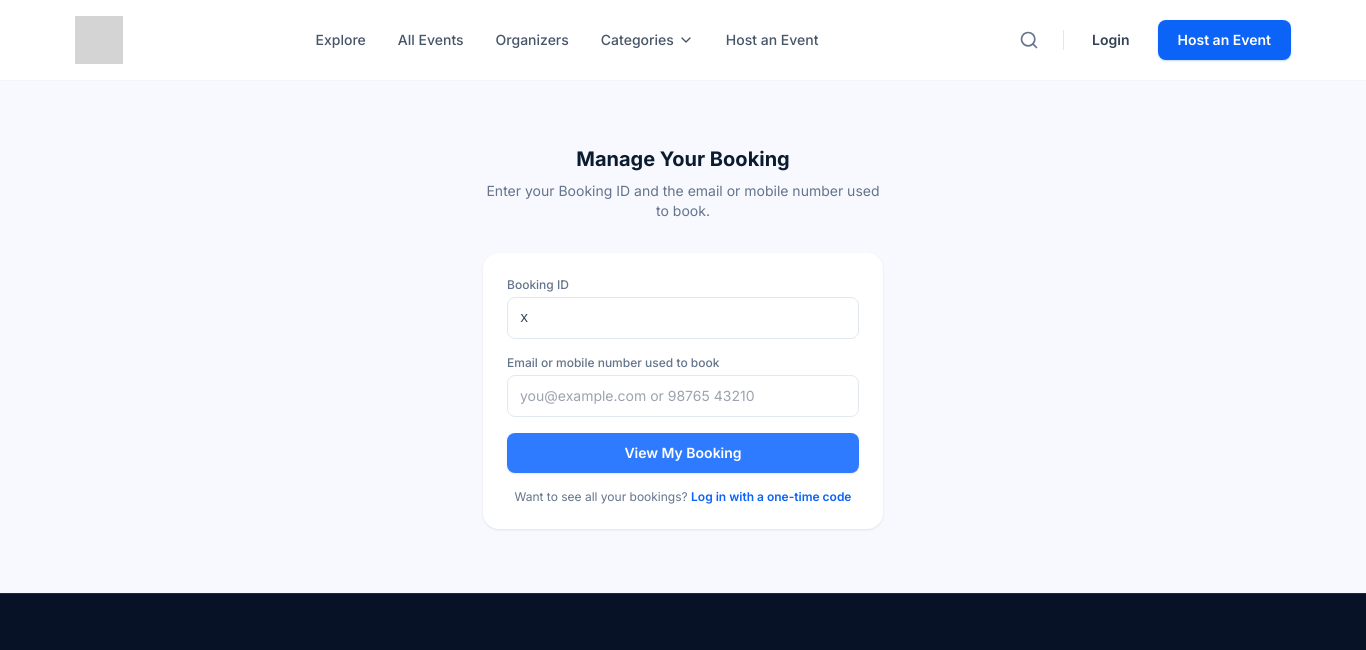
Test: post-event photos & videos link › shows nothing when the organizer has not shared a link
The width and height of the screenshot is (1366, 650).
In the field with placeholder "INV-BKG-2026-AB12CD": (683, 318) x1=507 y1=297 x2=859 y2=339, type "INV-BKG-2026-GALLERY1"
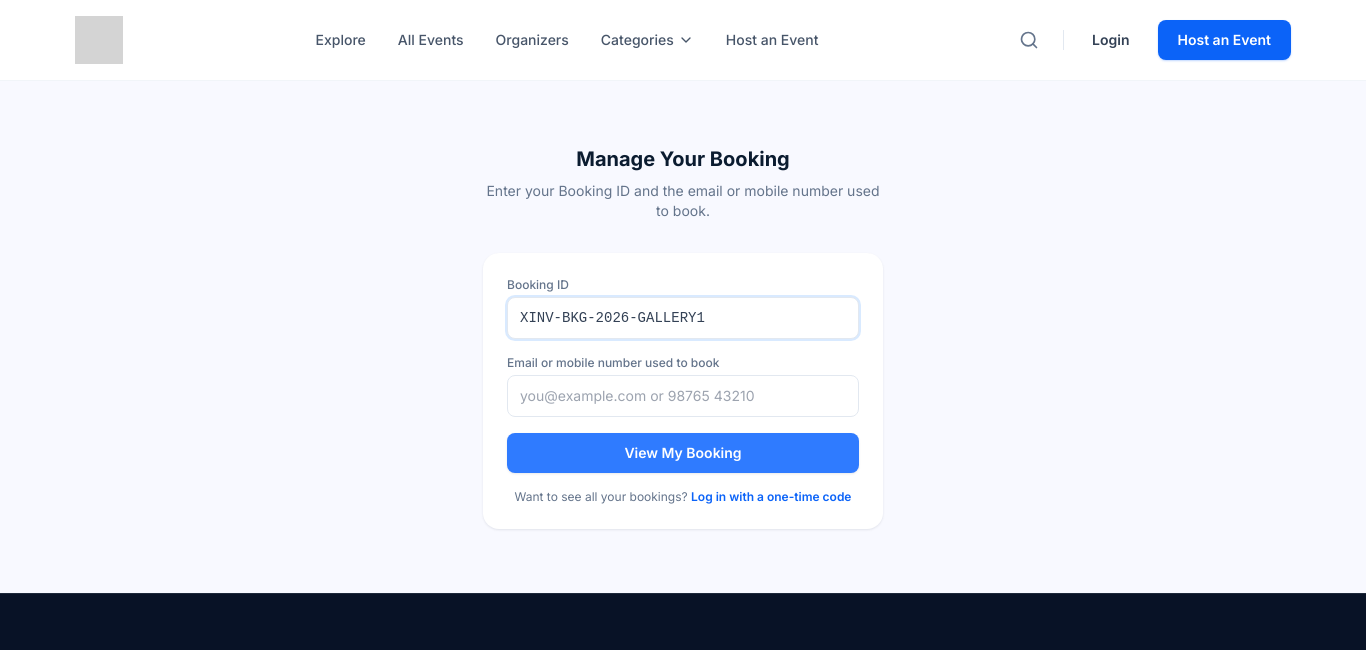
In the field with placeholder "you@example.com or 98765 43210": (683, 396) x1=507 y1=375 x2=859 y2=417, type "asha@example.com"
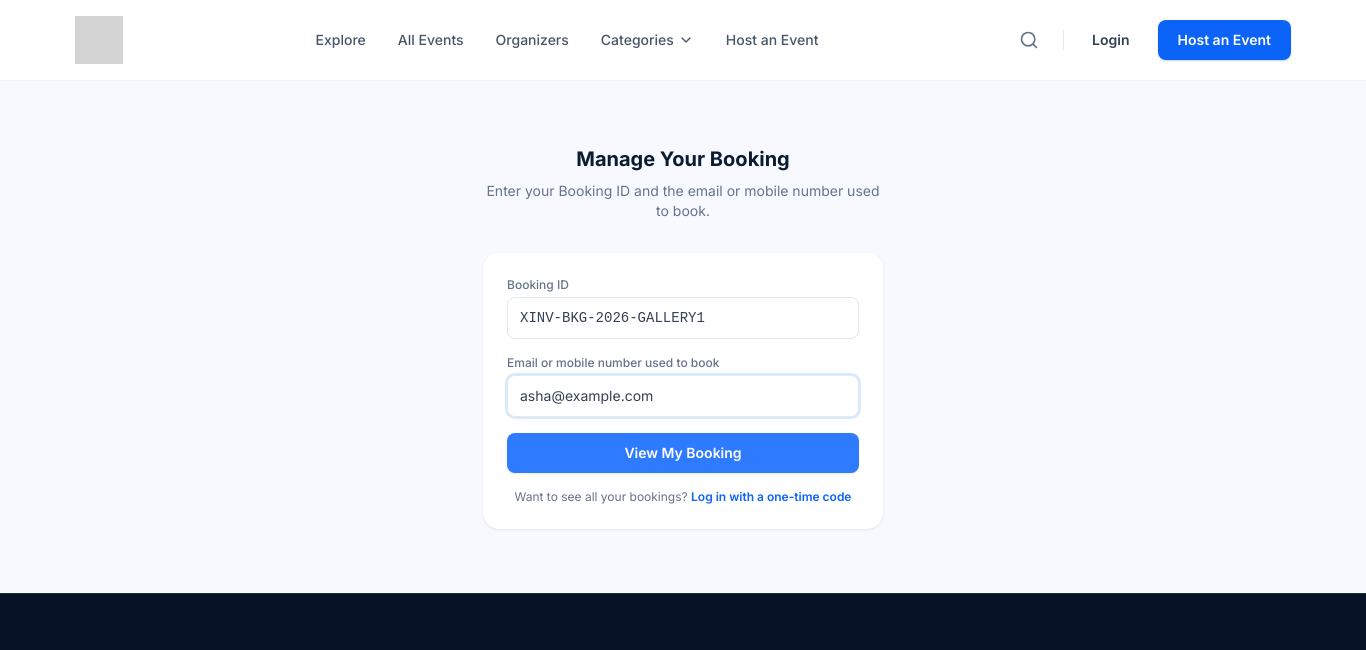
Click the button "View My Booking": (683, 453) x1=507 y1=433 x2=859 y2=473
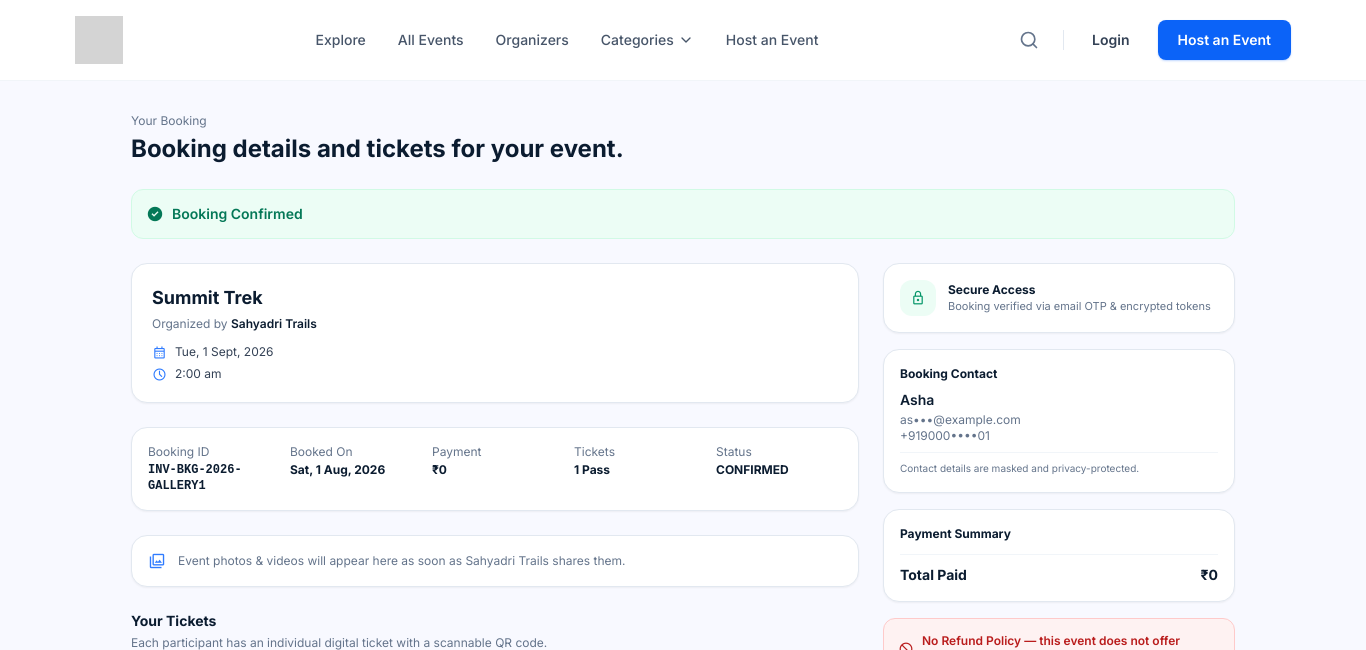
Expected: the heading "Summit Trek" is shown, x1=152 y1=287 x2=263 y2=308
